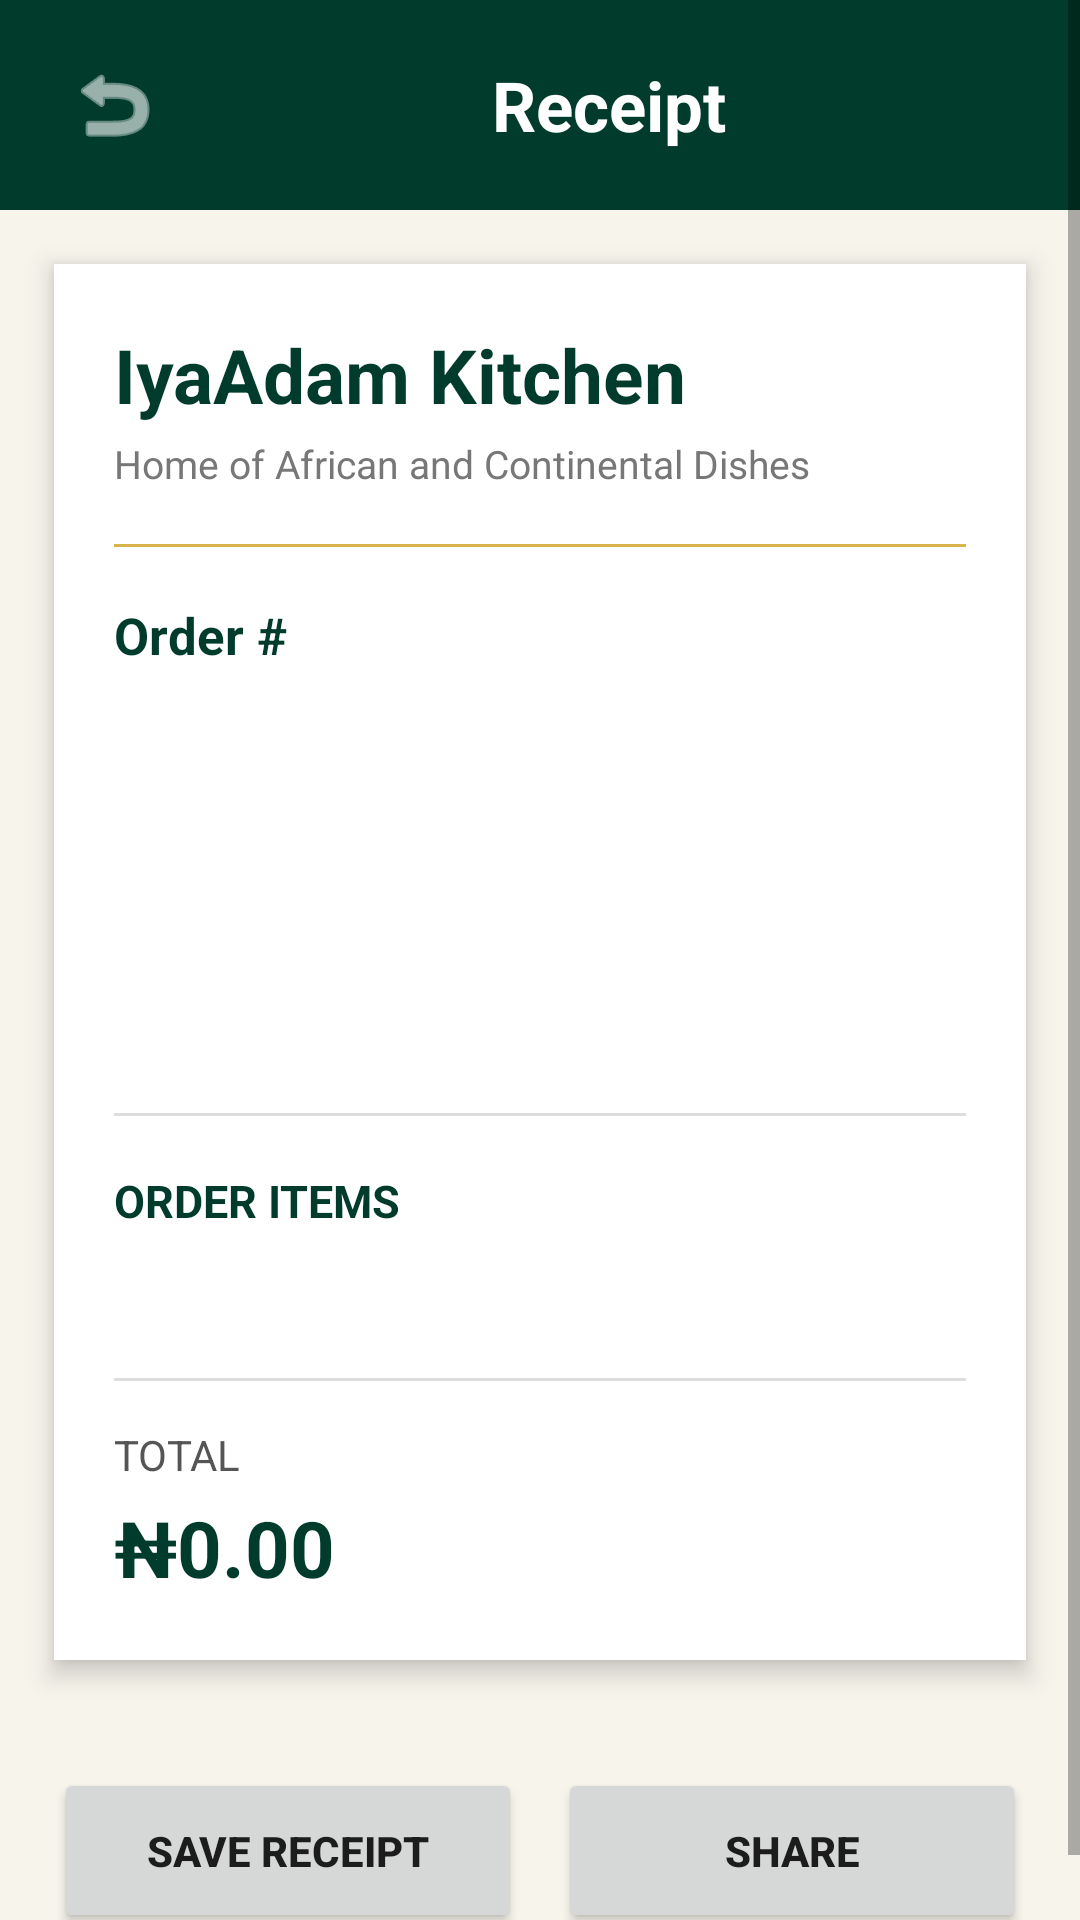

Locate icon controls on the screen. Image size 1080px×1920px, boxes as (x1, y1, x2, y2).
Back: (81, 74, 150, 137)
